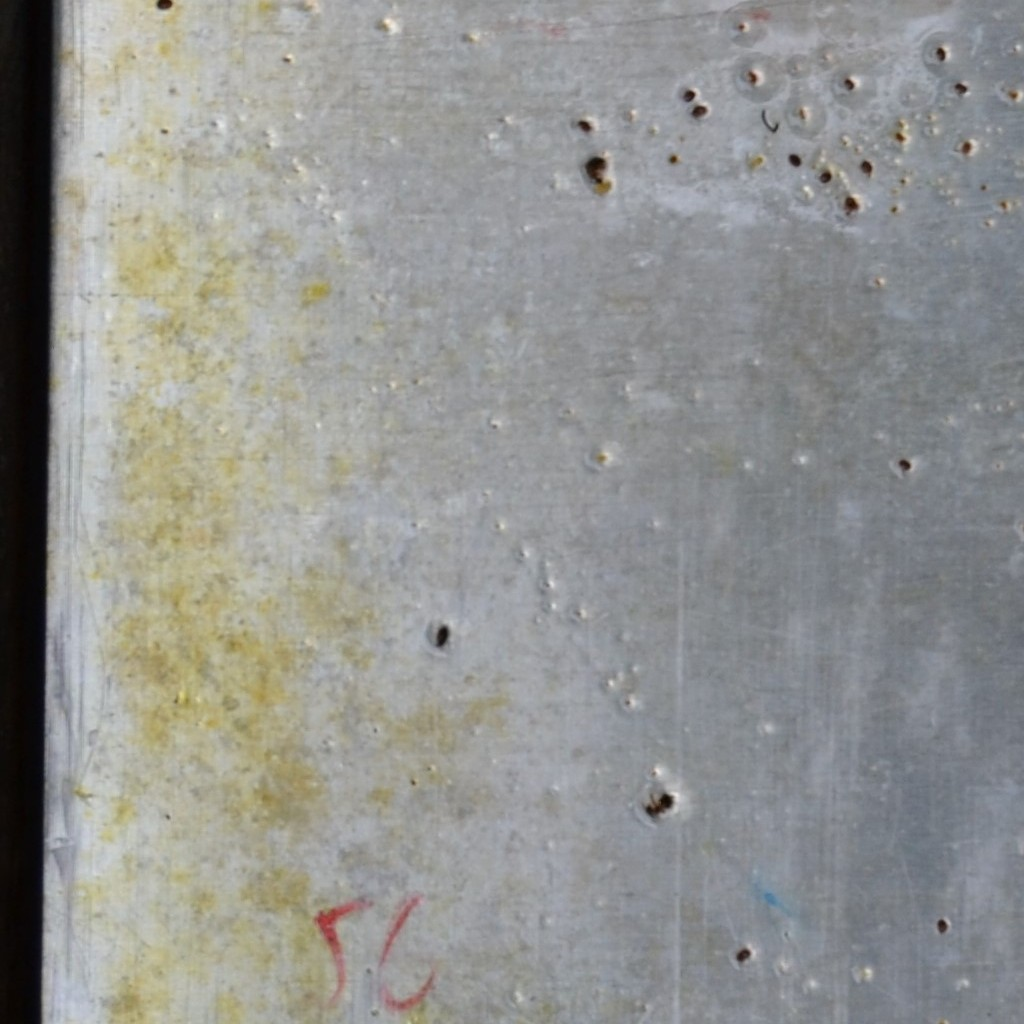varroa: (575, 115, 594, 134), (689, 102, 709, 120), (841, 194, 859, 213), (933, 915, 950, 935), (735, 947, 752, 967), (895, 456, 913, 474), (786, 152, 803, 168), (857, 159, 875, 174), (817, 170, 836, 184), (842, 76, 857, 93), (682, 87, 698, 102), (934, 45, 948, 62), (155, 0, 174, 11), (953, 81, 969, 94)
